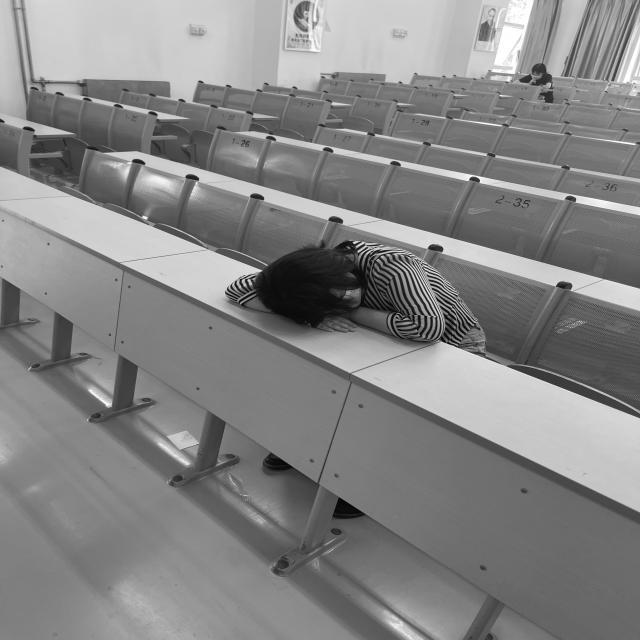sleep: (223, 240, 484, 341)
